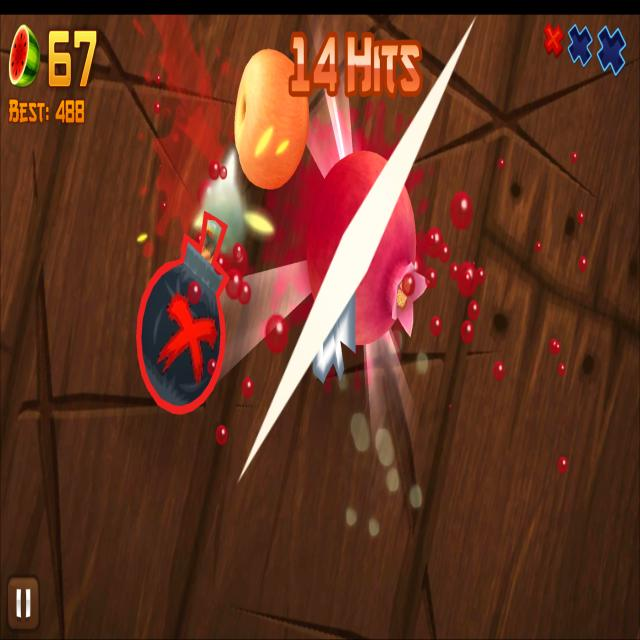bomb: (136, 208, 228, 418)
fruit: (306, 149, 418, 346), (232, 48, 310, 190)
